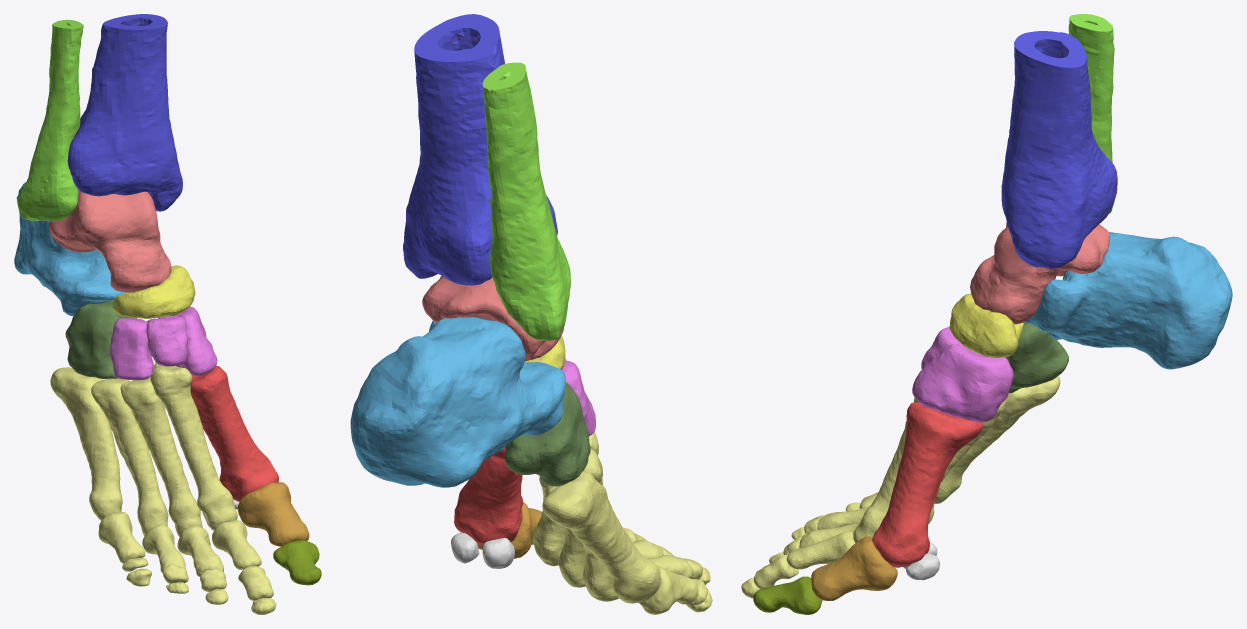
The model's file is foot-ankle-bones.glb.
The picture shows the model from 3 angles, left to right: view 1: azimuth 30°, elevation 25°; view 2: azimuth 150°, elevation 25°; view 3: azimuth 270°, elevation 25°; orthographic projection. The views are drawn at different scales.
Parts seen in each view (by area): view 1: polySurface17, polySurface1, polySurface6, polySurface3, polySurface33, polySurface31, polySurface37, polySurface36, polySurface35, polySurface22, polySurface21; view 2: polySurface37, polySurface1, polySurface3, polySurface17, polySurface36, polySurface31, polySurface6, polySurface7, polySurface33, polySurface35, polySurface22; view 3: polySurface1, polySurface37, polySurface17, polySurface31, polySurface33, polySurface6, polySurface3, polySurface35, polySurface22, polySurface36, polySurface21, polySurface7.
Part boxes in pixels (left/top/right/bottom): polySurface17: left=50, top=362, right=276, bottom=614; polySurface1: left=67, top=14, right=182, bottom=211; polySurface6: left=49, top=189, right=171, bottom=292; polySurface3: left=17, top=19, right=83, bottom=221; polySurface33: left=110, top=306, right=217, bottom=380; polySurface31: left=190, top=366, right=278, bottom=501; polySurface37: left=14, top=182, right=125, bottom=316; polySurface36: left=65, top=300, right=136, bottom=378; polySurface35: left=237, top=482, right=309, bottom=546; polySurface22: left=112, top=265, right=195, bottom=318; polySurface21: left=273, top=540, right=321, bottom=585; polySurface37: left=350, top=317, right=565, bottom=487; polySurface1: left=403, top=14, right=557, bottom=285; polySurface3: left=482, top=62, right=570, bottom=340; polySurface17: left=532, top=431, right=712, bottom=614; polySurface36: left=504, top=382, right=590, bottom=486; polySurface31: left=454, top=447, right=523, bottom=546; polySurface6: left=422, top=275, right=563, bottom=361; polySurface7: left=451, top=532, right=515, bottom=568; polySurface33: left=562, top=359, right=595, bottom=436; polySurface35: left=477, top=502, right=542, bottom=558; polySurface22: left=524, top=335, right=565, bottom=369; polySurface1: left=1001, top=31, right=1117, bottom=268; polySurface37: left=1024, top=232, right=1232, bottom=369; polySurface17: left=741, top=376, right=1060, bottom=598; polySurface31: left=872, top=402, right=982, bottom=567; polySurface33: left=912, top=326, right=1013, bottom=422; polySurface6: left=970, top=222, right=1110, bottom=324; polySurface3: left=1068, top=14, right=1114, bottom=214; polySurface35: left=811, top=536, right=897, bottom=600; polySurface22: left=949, top=293, right=1023, bottom=357; polySurface36: left=1005, top=322, right=1068, bottom=393; polySurface21: left=753, top=576, right=822, bottom=614; polySurface7: left=903, top=542, right=939, bottom=580.
Bounding box in the file's own units: 7.85 × 21.37 × 17.02.
